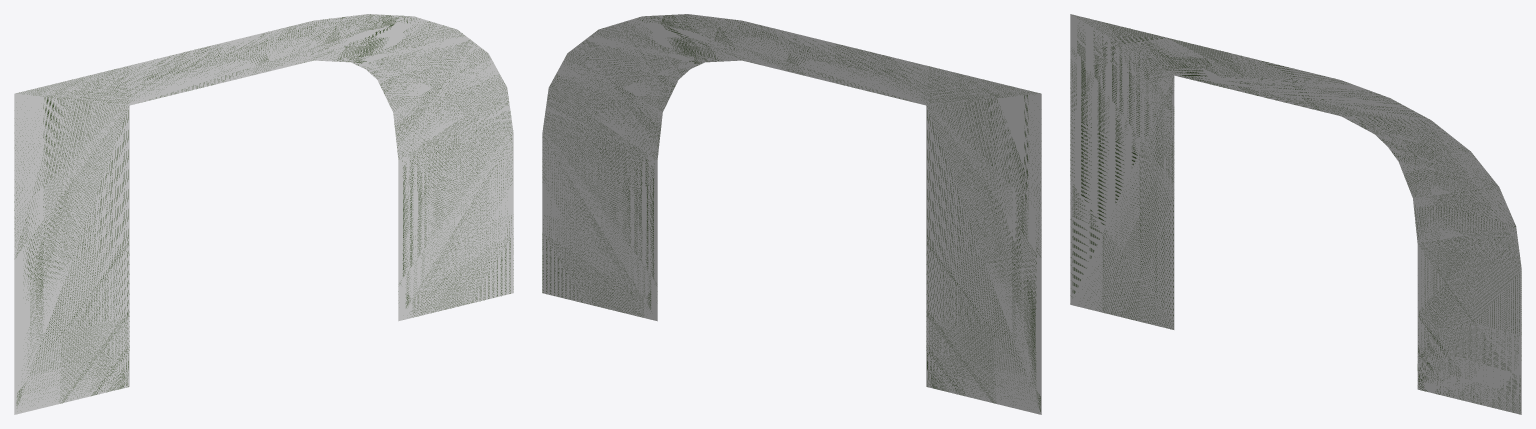
Rendered from original-46.obj.
The picture shows the model from 3 angles, left to right: view 1: azimuth 30°, elevation 25°; view 2: azimuth 150°, elevation 25°; view 3: azimuth 330°, elevation 25°; orthographic projection. The views are drawn at different scales.
Parts seen in each view (by area): view 1: part_1_2/part_1/mesh1/mesh1-geometry/material_0/component_43#mes; view 2: part_1_2/part_1/mesh1/mesh1-geometry/material_0/component_43#mes; view 3: part_1_2/part_1/mesh1/mesh1-geometry/material_0/component_43#mes.
Part boxes in pixels (x1,y1,x2,y2): part_1_2/part_1/mesh1/mesh1-geometry/material_0/component_43#mes: (14, 14, 513, 414); part_1_2/part_1/mesh1/mesh1-geometry/material_0/component_43#mes: (542, 14, 1041, 414); part_1_2/part_1/mesh1/mesh1-geometry/material_0/component_43#mes: (1070, 14, 1521, 414).
Size of the model in its own units: 0.0505 by 0.0311 by 0.
